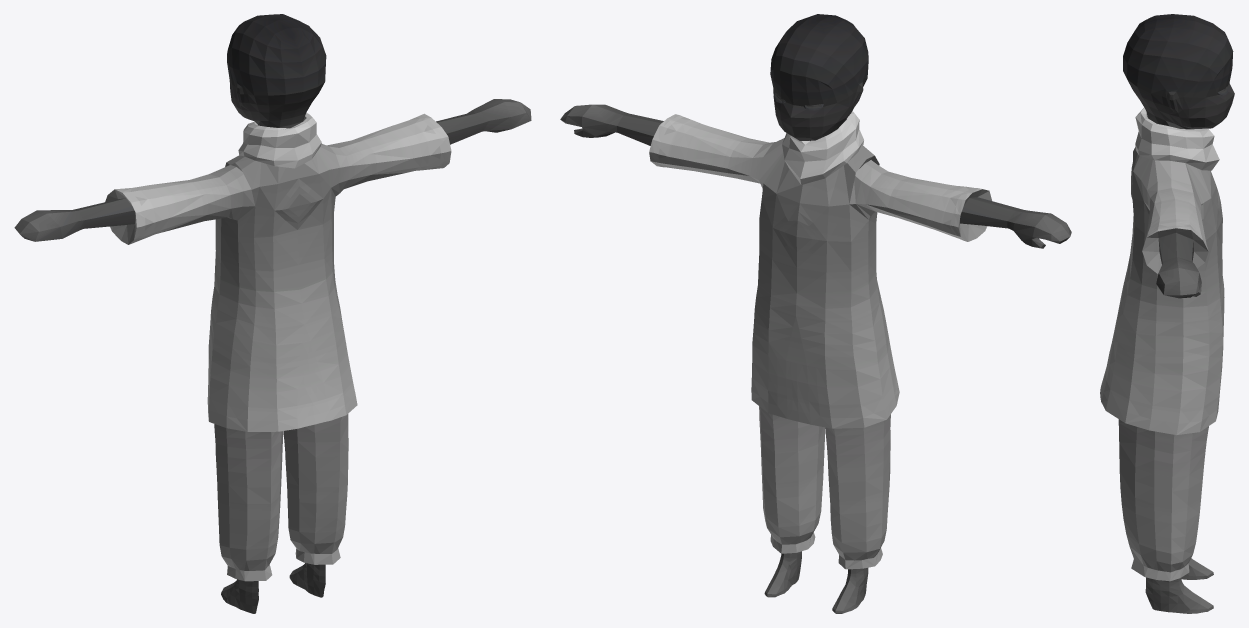
File: CharSkyKid_Body_LongMonkPants.glb
The picture shows the model from 3 angles, left to right: view 1: azimuth 30°, elevation 25°; view 2: azimuth 150°, elevation 25°; view 3: azimuth 270°, elevation 25°; orthographic projection.
Visible parts, largest first — view 1: CharSkyKid_Body_LongMonkPants; view 2: CharSkyKid_Body_LongMonkPants; view 3: CharSkyKid_Body_LongMonkPants.
Part boxes in pixels (box(x1,y1,x2,y2)): CharSkyKid_Body_LongMonkPants: box(14, 14, 531, 613); CharSkyKid_Body_LongMonkPants: box(560, 14, 1071, 613); CharSkyKid_Body_LongMonkPants: box(1100, 14, 1234, 613).
Size of the model in its own units: 13.83 by 14.94 by 3.18.
Materials: 1 (1 with a texture image).
